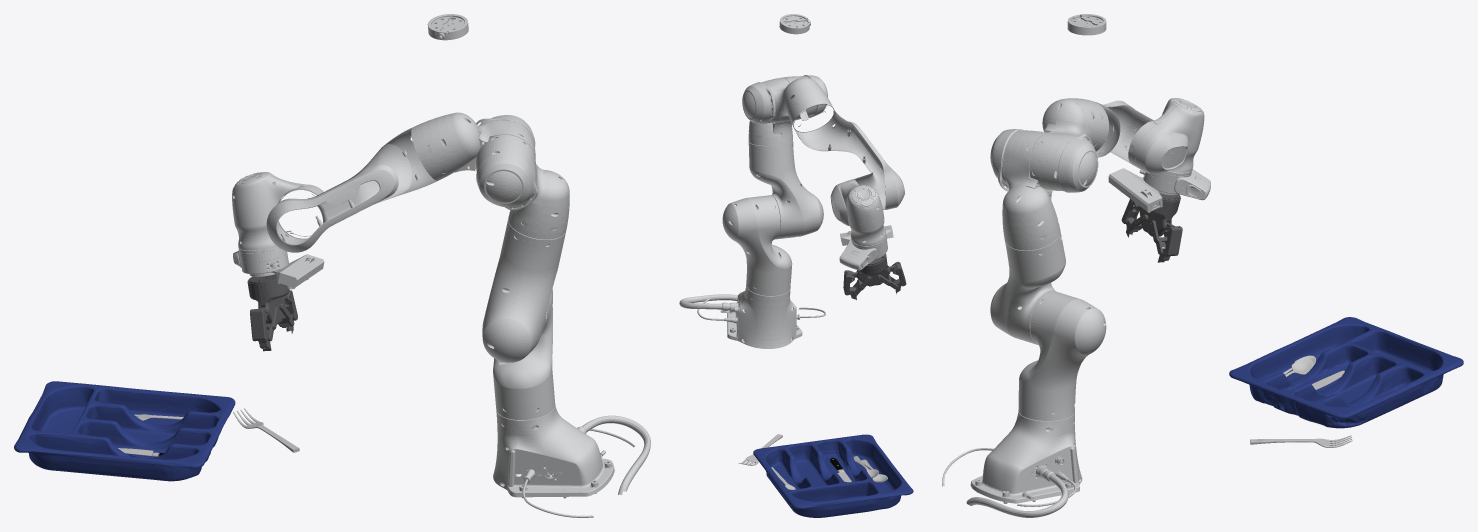
File: props.glb
3 renders of one model, left to right at view 1: azimuth 30°, elevation 25°; view 2: azimuth 150°, elevation 25°; view 3: azimuth 270°, elevation 25°, orthographic. The views are drawn at different scales.
Bounding box in the file's own units: 1 × 0.9831 × 1.02.
